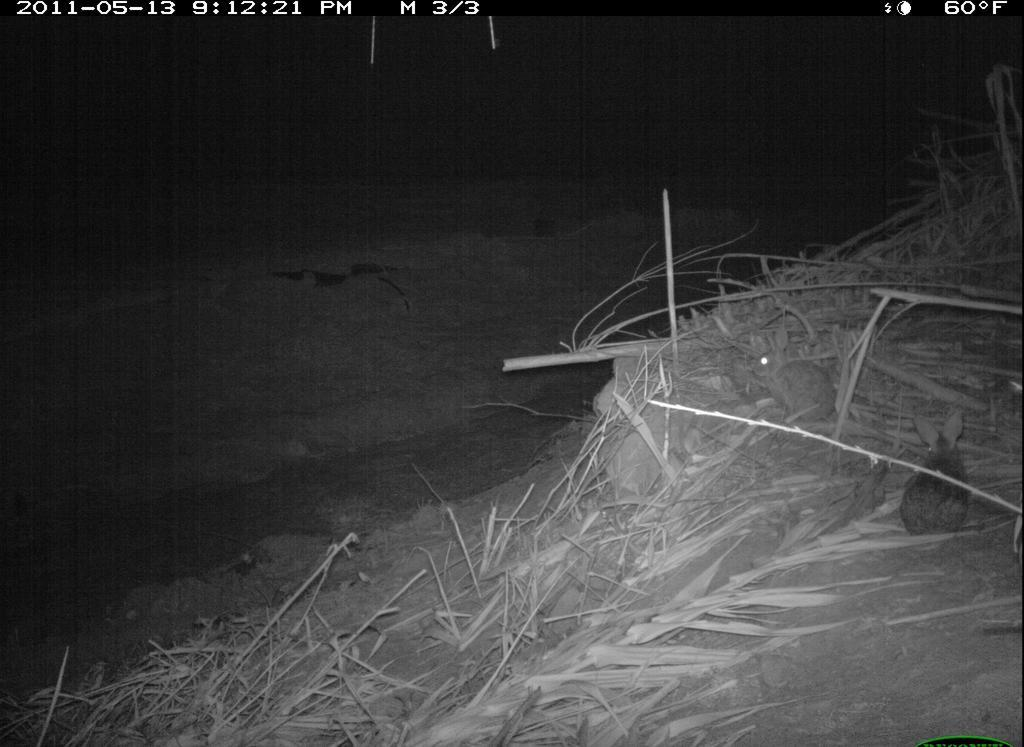rabbit: (728, 326, 850, 433), (893, 408, 982, 537)
